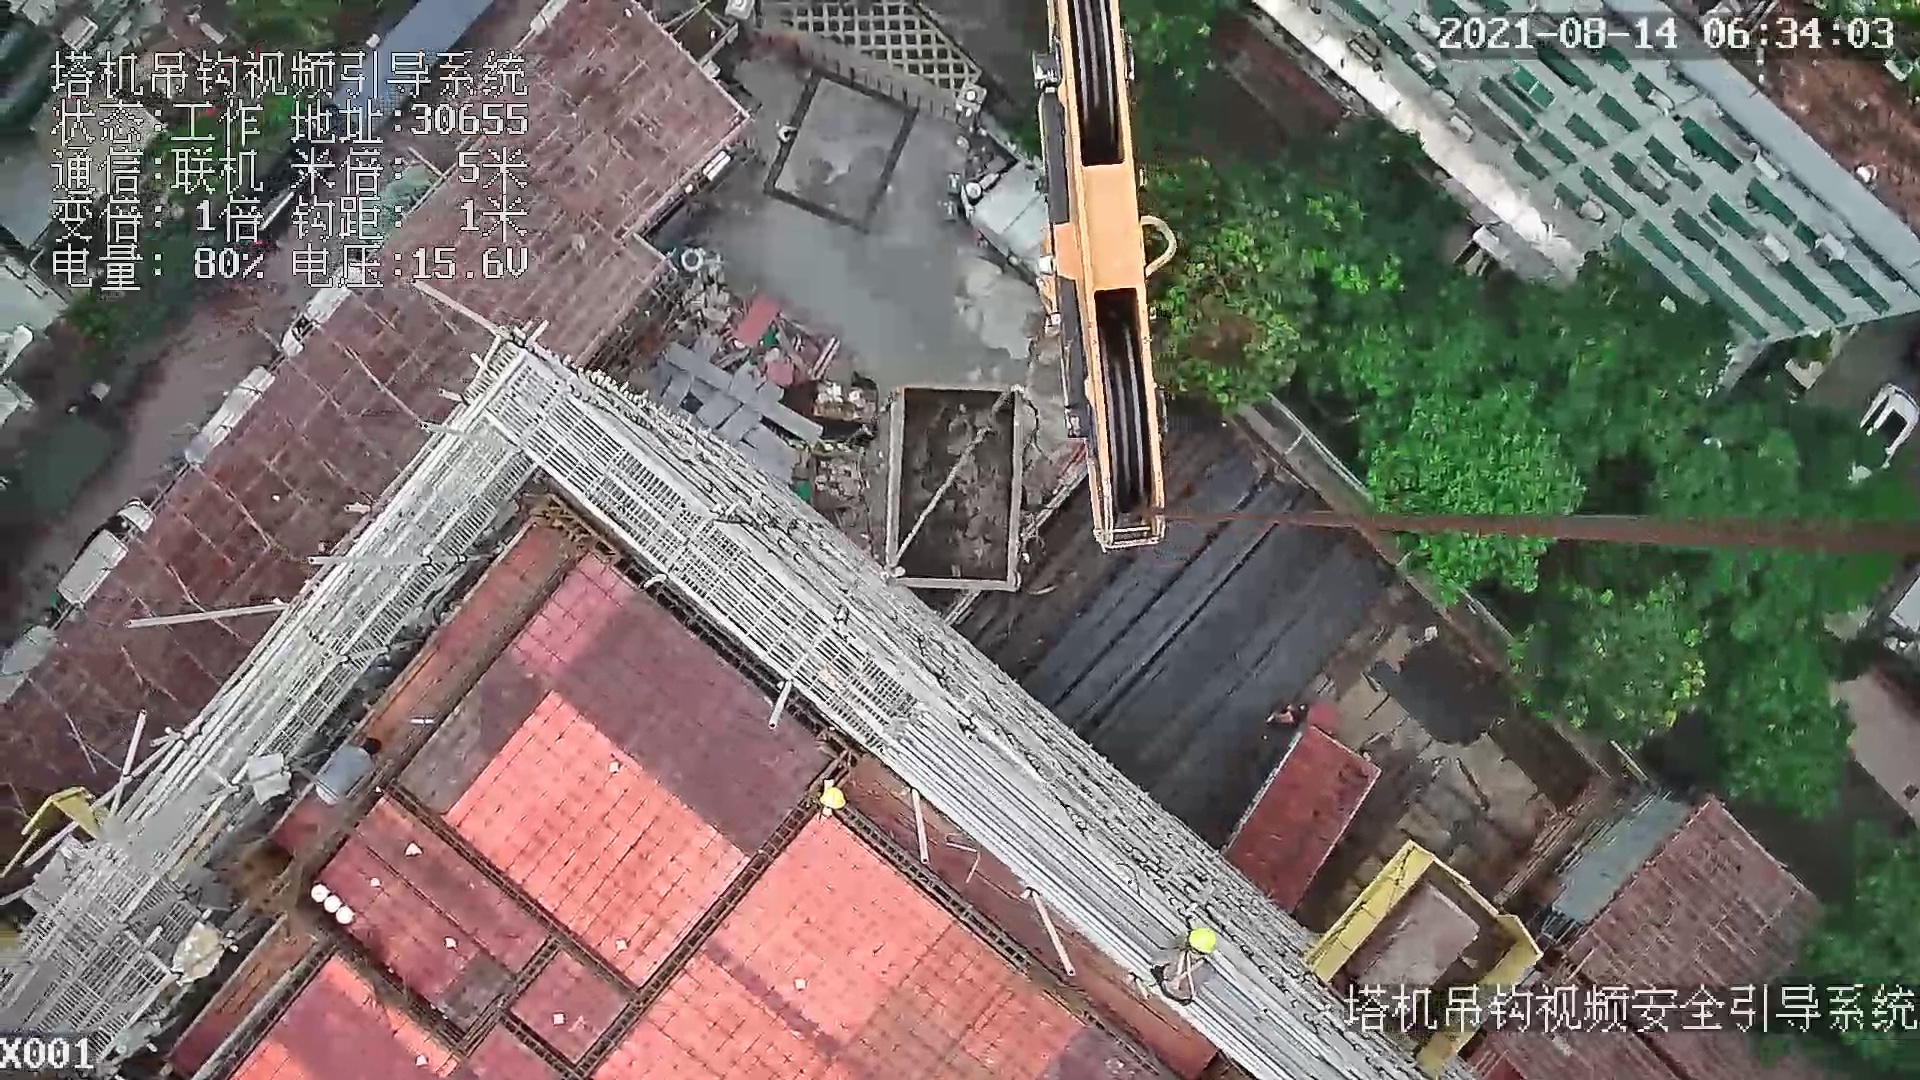helmet: (1189, 925, 1219, 955), (819, 787, 847, 811)
hook: (1019, 5, 1178, 550)
hopper: (864, 369, 1044, 608)
person: (1146, 913, 1217, 1012)
rebar: (1056, 523, 1345, 772)
